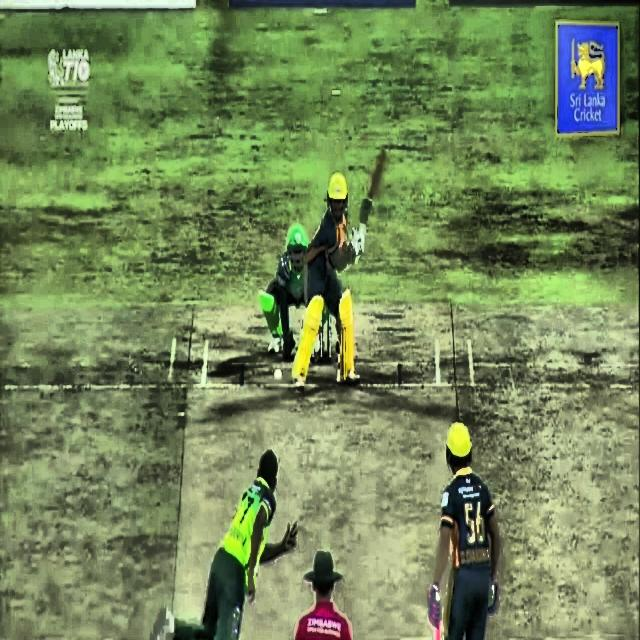Left-stump: (311, 343, 314, 363)
Middle-stump: (320, 315, 322, 361)
Right-stump: (328, 309, 330, 362)
